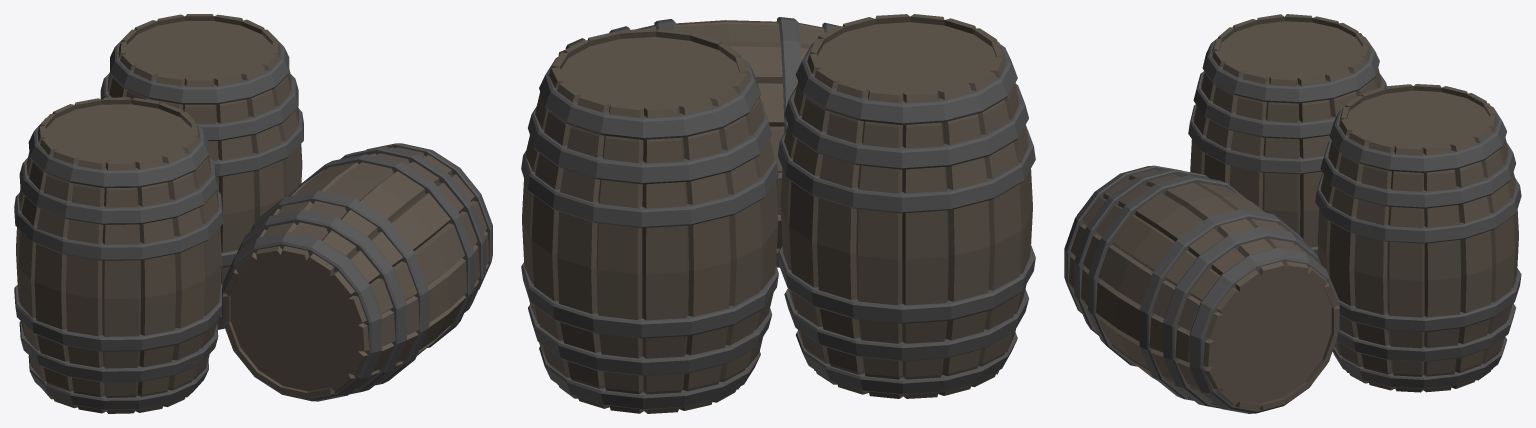
File: Prop_Barrel_Stak_03.fbx
3 renders of one model, left to right at view 1: azimuth 30°, elevation 25°; view 2: azimuth 150°, elevation 25°; view 3: azimuth 270°, elevation 25°, orthographic. The views are drawn at different scales.
Visible parts, largest first — view 1: Prop_Barrel_Stak_03_LOD0; view 2: Prop_Barrel_Stak_03_LOD0; view 3: Prop_Barrel_Stak_03_LOD0.
Part boxes in pixels (<box>): Prop_Barrel_Stak_03_LOD0: <box>14,14,492,413</box>; Prop_Barrel_Stak_03_LOD0: <box>521,14,1035,413</box>; Prop_Barrel_Stak_03_LOD0: <box>1064,14,1521,413</box>.
Size of what is drawn, in the model's own units: 156 by 88.44 by 151.
